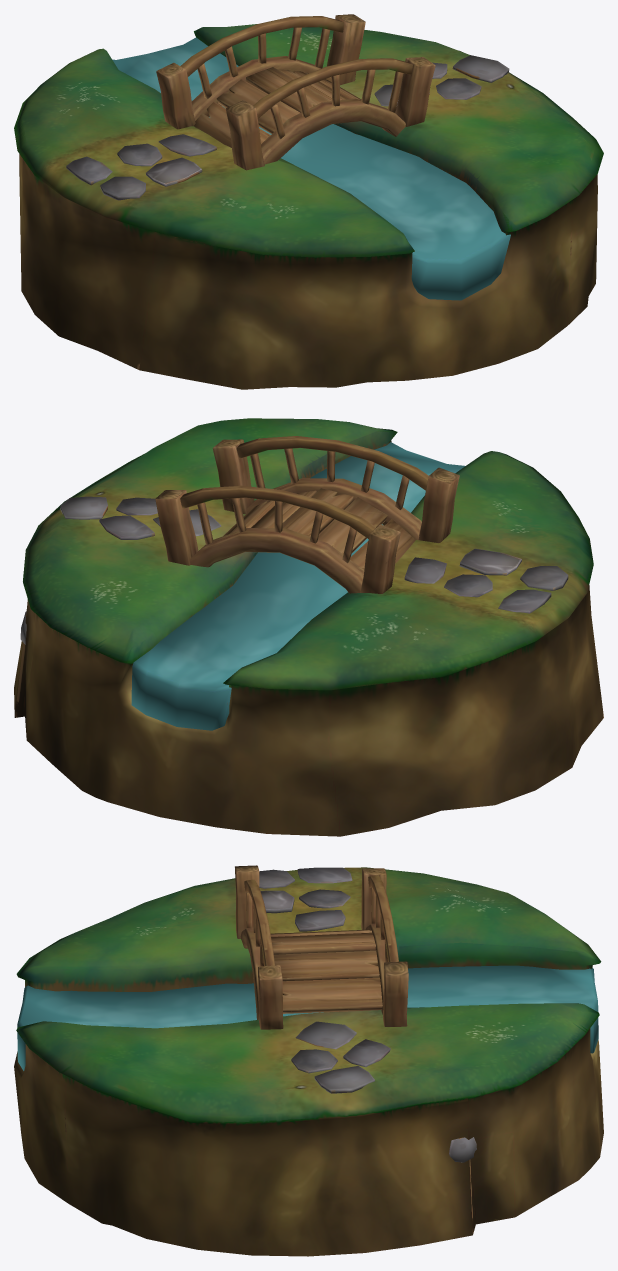
File: small-island.glb
3 renders of one model, top to bottom at view 1: azimuth 30°, elevation 25°; view 2: azimuth 150°, elevation 25°; view 3: azimuth 270°, elevation 25°, orthographic. The views are drawn at different scales.
Visible parts, largest first — view 1: Cylinder, Cylinder.005, Cylinder.002, Cylinder.003, Cylinder.004, Cube.002, Cube, Cylinder.001, Cube.003, Cube.001, Cube.007, Cube.006 (+8 smaller); view 2: Cylinder, Cylinder.005, Cylinder.001, Cylinder.003, Cylinder.004, Cylinder.002, Cube.001, Cube.002, Cube.003, Cube, Cube.007, Cube.006 (+10 smaller); view 3: Cylinder, Cylinder.005, Cube.004, Cube.005, Cube.006, Cube.001, Cube, Cube.015, Cube.009, Cylinder.003, Cylinder.004, Cube.002 (+11 smaller).
Boxes of the visible parts, x1,y1,x2,y2 form: Cylinder: (14,24,603,389); Cylinder.005: (112,37,510,300); Cylinder.002: (261,98,405,164); Cylinder.003: (180,16,343,76); Cylinder.004: (253,58,412,118); Cube.002: (226,100,264,170); Cube: (395,57,435,126); Cylinder.001: (191,56,331,120); Cube.003: (156,62,195,129); Cube.001: (327,14,365,85); Cube.007: (216,79,300,133); Cube.006: (246,67,329,112); Cylinder: (14,418,603,836); Cylinder.005: (131,442,465,730); Cylinder.001: (189,528,364,593); Cylinder.003: (180,485,375,538); Cylinder.004: (236,436,428,490); Cylinder.002: (246,478,421,540); Cube.001: (155,490,198,565); Cube.002: (418,467,459,542); Cube.003: (360,524,400,593); Cube: (212,439,254,513); Cube.007: (318,497,387,554); Cube.006: (282,488,353,536); Cylinder: (14,867,603,1256); Cylinder.005: (17,965,598,1070); Cube.004: (282,977,382,1013); Cube.005: (274,950,379,981); Cube.006: (271,932,375,954); Cube.001: (383,961,408,1026); Cube: (258,965,283,1029); Cube.015: (314,1066,374,1093); Cube.009: (295,1021,356,1049); Cylinder.003: (368,875,398,961); Cylinder.004: (244,879,274,966); Cube.002: (235,865,259,938).
Bounding box in the file's own units: 1.97 × 0.8886 × 2.01.
Materials: 1 (1 with a texture image).
